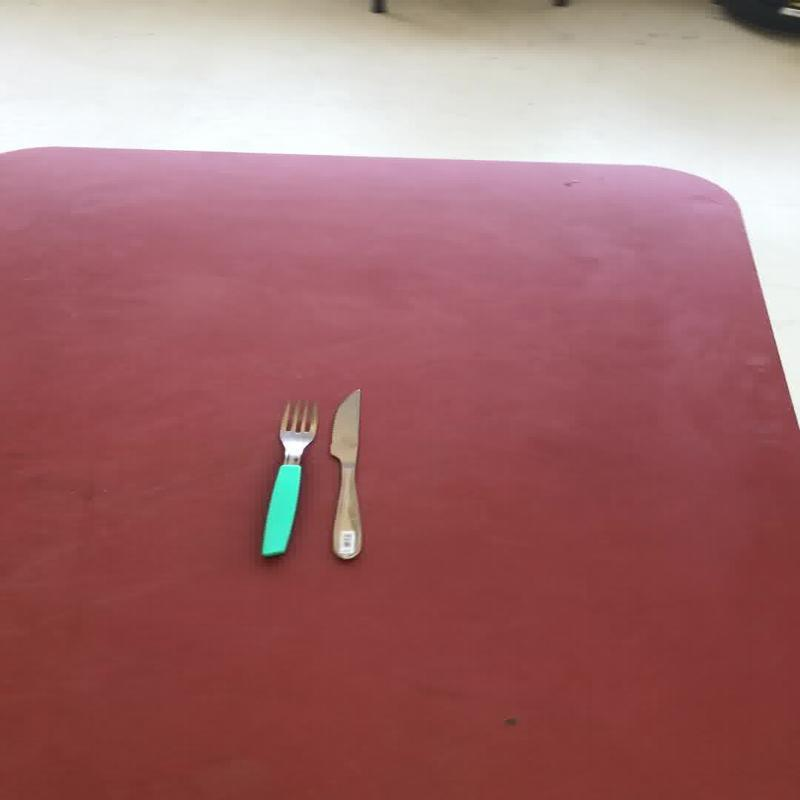fork: (258, 399, 318, 557)
knife: (327, 388, 362, 560)
